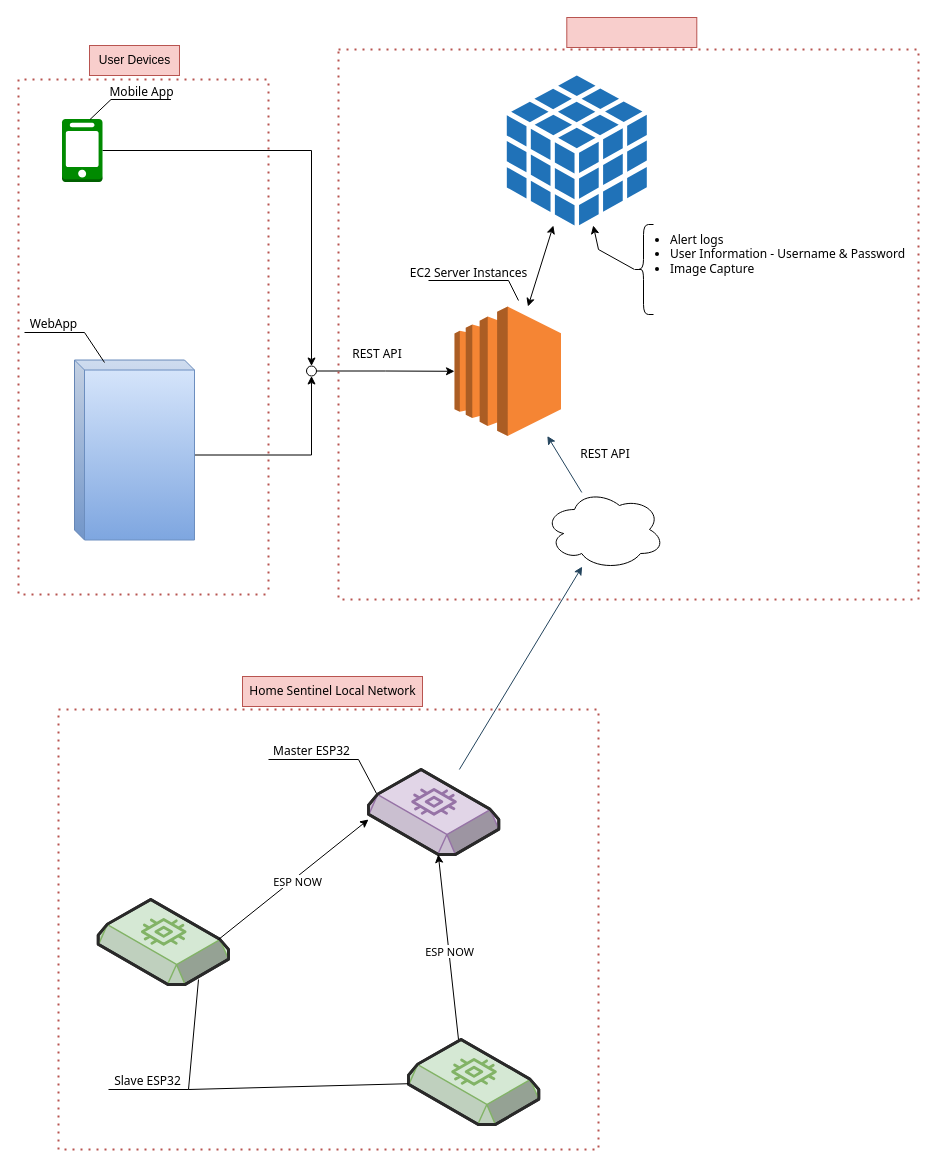
Some shapes in this 937 by 1169 pixel diagram are drawn without their labels. The centre of each missing label's shape, as x and y in pixels:
"Cloud Infrastructure" belongs at (631,32).
"Internet" belongs at (604,529).
